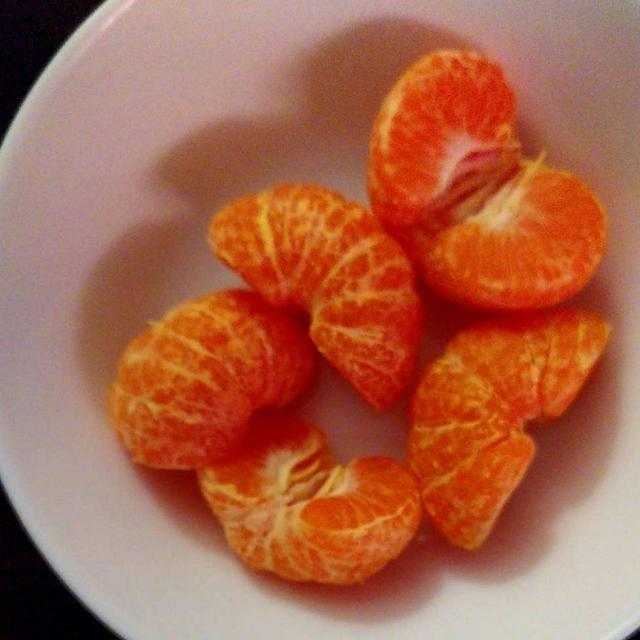mandarine: (110, 55, 605, 560)
